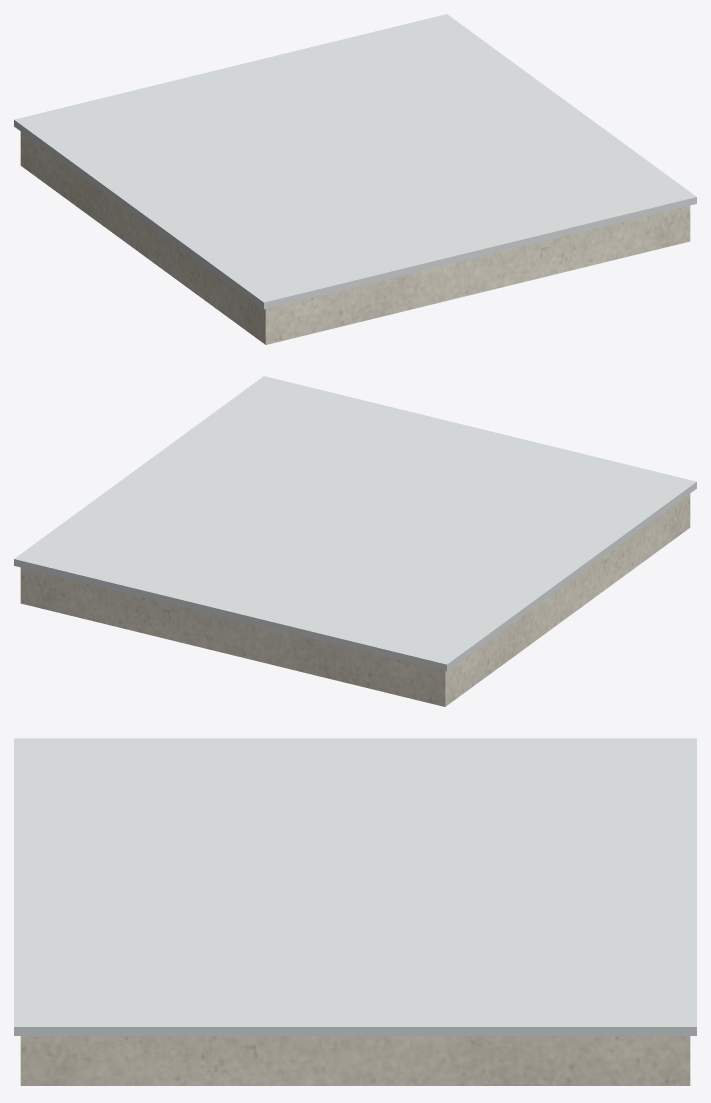
File: floor_tile_bath.glb
3 renders of one model, top to bottom at view 1: azimuth 30°, elevation 25°; view 2: azimuth 150°, elevation 25°; view 3: azimuth 270°, elevation 25°, orthographic. The views are drawn at different scales.
Parts seen in each view (by area): view 1: floor_tile_bath_tile, floor_tile_bath_plaster; view 2: floor_tile_bath_tile, floor_tile_bath_plaster; view 3: floor_tile_bath_tile, floor_tile_bath_plaster.
Part boxes in pixels (left/top/right/bottom): floor_tile_bath_tile: left=14, top=14, right=696, bottom=309; floor_tile_bath_plaster: left=20, top=131, right=690, bottom=344; floor_tile_bath_tile: left=14, top=376, right=696, bottom=671; floor_tile_bath_plaster: left=20, top=493, right=690, bottom=706; floor_tile_bath_tile: left=14, top=738, right=696, bottom=1035; floor_tile_bath_plaster: left=20, top=1036, right=690, bottom=1085.
Size of the model in its own units: 2 by 0.2 by 2.
Materials: 2 (1 with a texture image).
